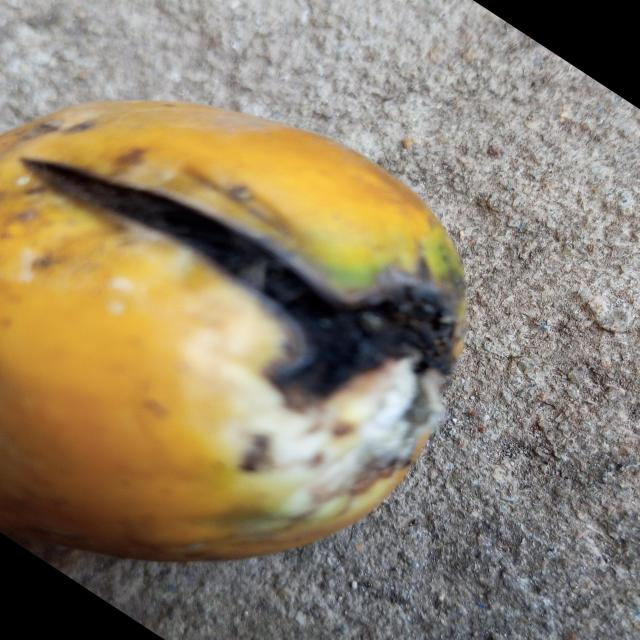damaged: (0, 101, 465, 566)
